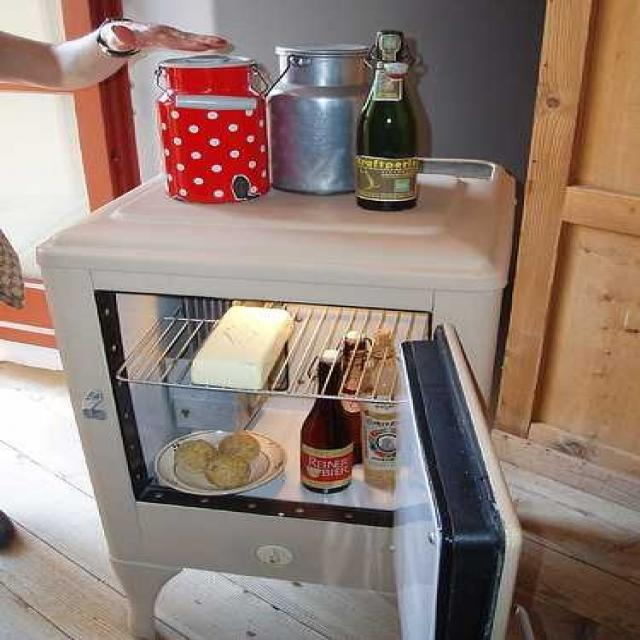refrigerator: (37, 246, 511, 604)
